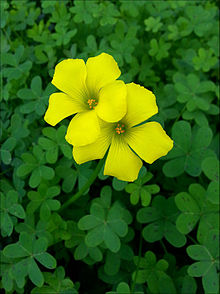oxalis: (65, 188, 160, 294), (9, 121, 62, 294), (174, 99, 219, 294), (110, 5, 220, 74), (18, 12, 109, 47)
